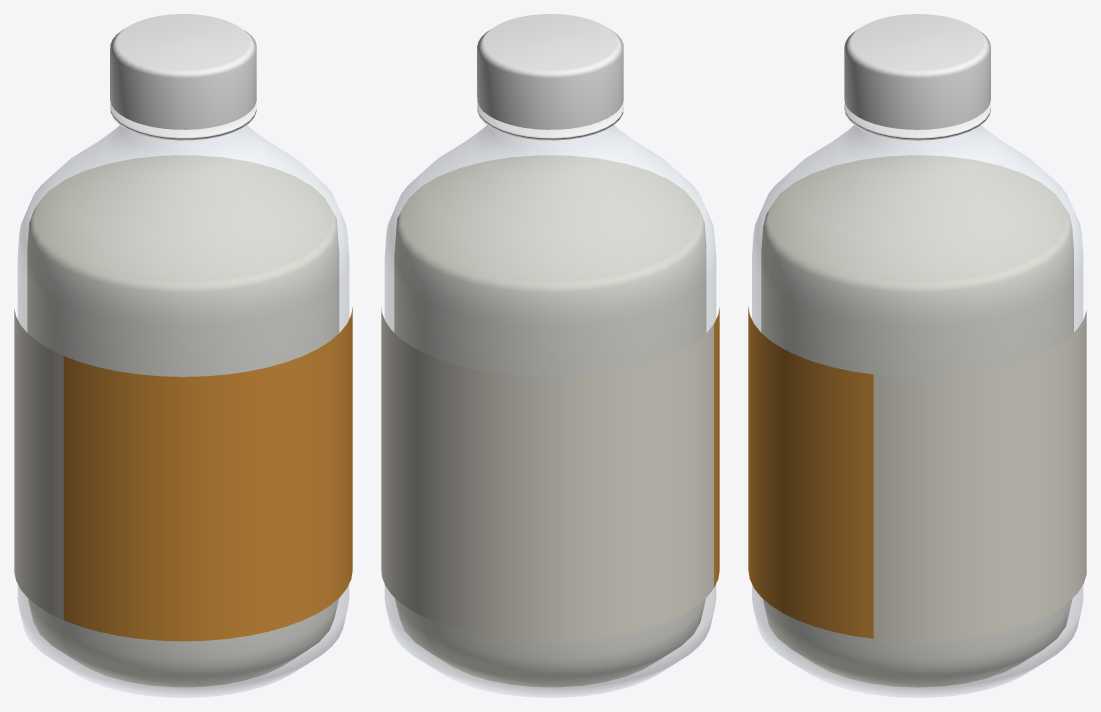
The model's file is bottle_classic.glb.
3 views of the same model, side by side, from view 1: azimuth 30°, elevation 25°; view 2: azimuth 150°, elevation 25°; view 3: azimuth 270°, elevation 25° (orthographic).
Parts seen in each view (by area): view 1: package_mesh; view 2: package_mesh; view 3: package_mesh.
Boxes of the visible parts, <box> form: package_mesh: <box>14,14,352,697</box>; package_mesh: <box>381,14,719,697</box>; package_mesh: <box>748,14,1086,697</box>.
Size of the model in its own units: 0.286 by 0.56 by 0.2857.
